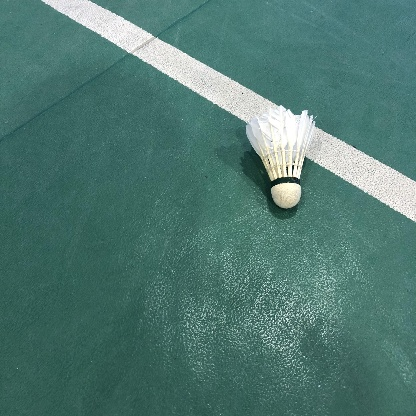ball_single: (246, 105, 316, 209)
